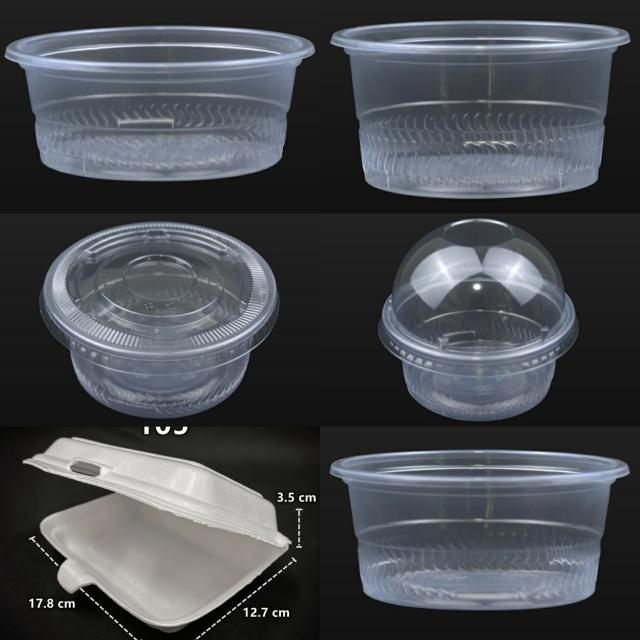Single-Use-Plastic: (332, 21, 629, 198), (24, 438, 290, 632), (330, 450, 629, 610), (6, 26, 314, 179), (40, 222, 279, 419), (379, 220, 578, 419)
